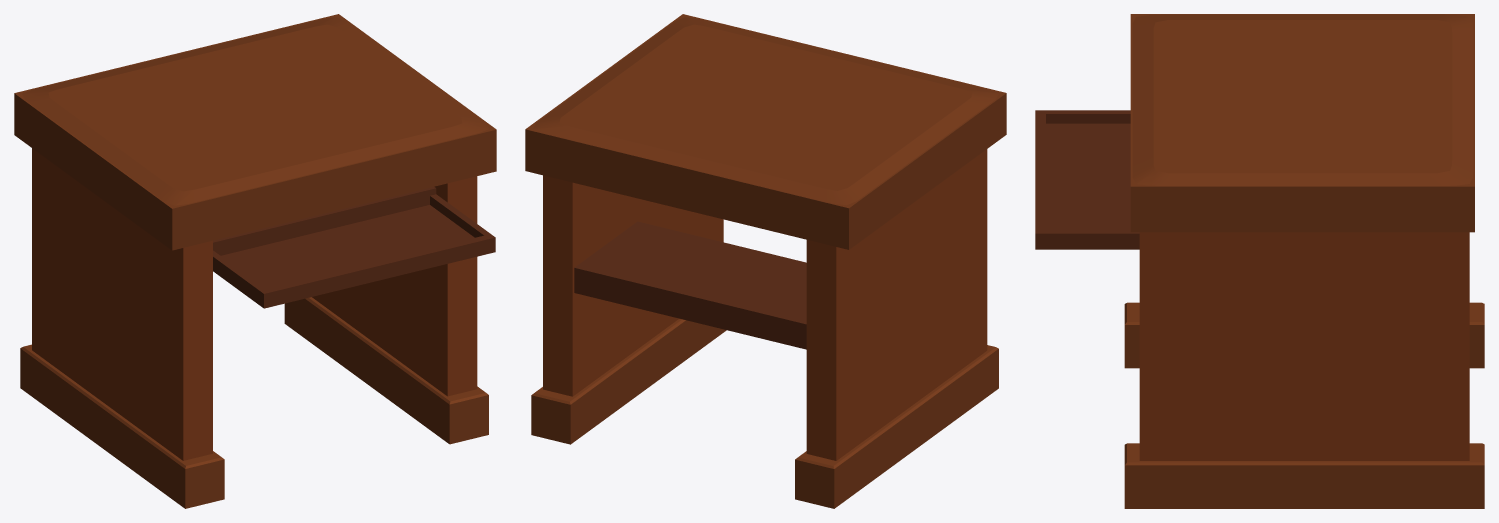
The picture shows the model from 3 angles, left to right: view 1: azimuth 30°, elevation 25°; view 2: azimuth 150°, elevation 25°; view 3: azimuth 270°, elevation 25°; orthographic projection. The views are drawn at different scales.
Parts seen in each view (by area): view 1: workstand; view 2: workstand; view 3: workstand.
Boxes of the visible parts, box(x1,y1,x2,y2) form: workstand: box(14, 14, 496, 508); workstand: box(525, 14, 1006, 508); workstand: box(1035, 14, 1484, 508).
Bounding box in the file's own units: 1.09 × 0.9751 × 1.2.
